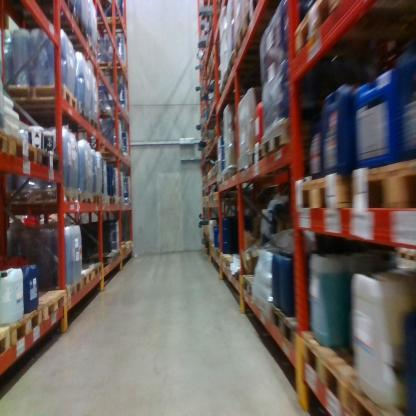pallets: (0, 245, 134, 366), (296, 330, 409, 414), (291, 152, 416, 221), (3, 78, 103, 127), (290, 0, 359, 57), (232, 0, 272, 60), (268, 299, 313, 342), (257, 124, 297, 162)
